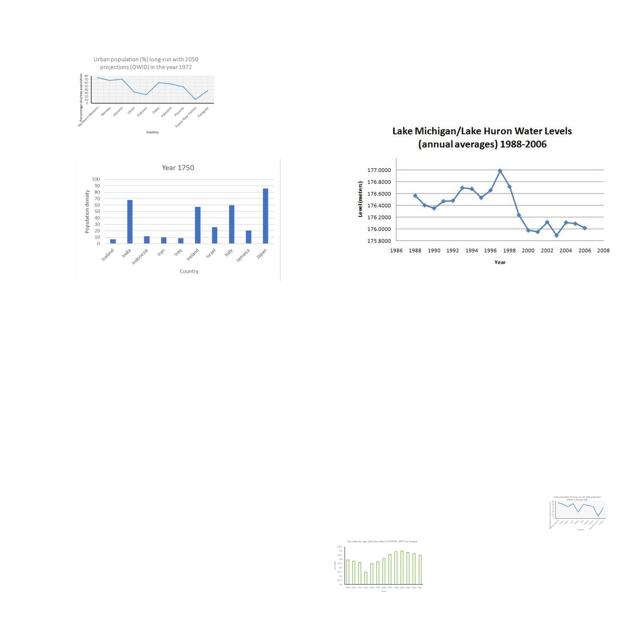Graph: (350, 121, 616, 273), (76, 159, 281, 281), (77, 55, 216, 136), (331, 539, 425, 594), (548, 495, 607, 531)
